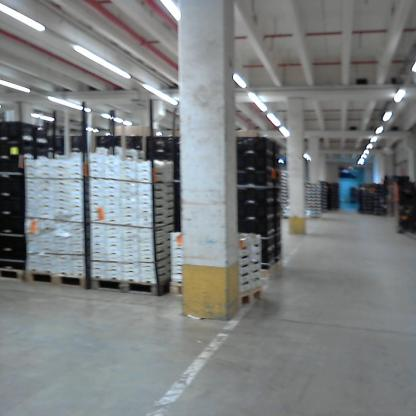pallet: (89, 272, 176, 294), (170, 282, 266, 300), (25, 270, 96, 289), (1, 263, 27, 284), (256, 264, 278, 283), (275, 257, 286, 273)
